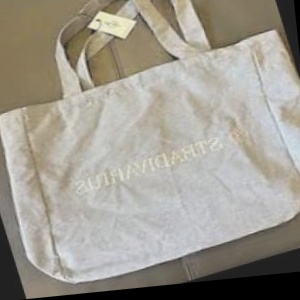stradivarius: (201, 33, 300, 208)
